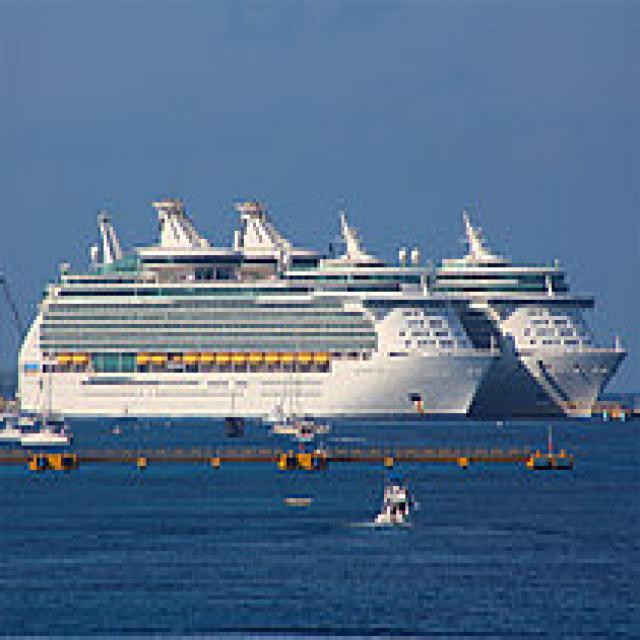Ship: (4, 192, 510, 435)
